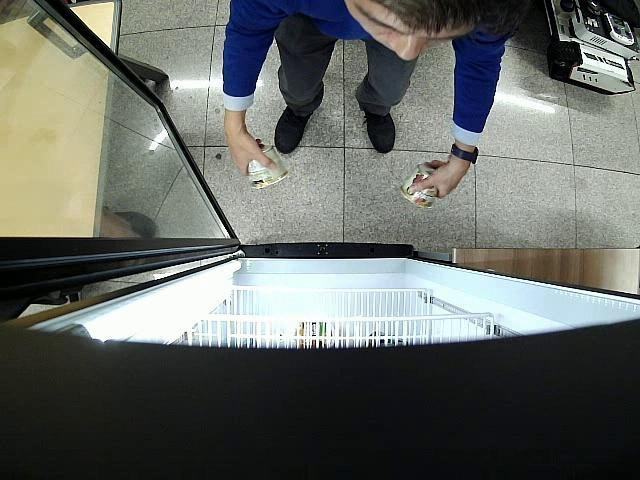04_chapagetti_S: (249, 144, 290, 189), (400, 162, 437, 208)
